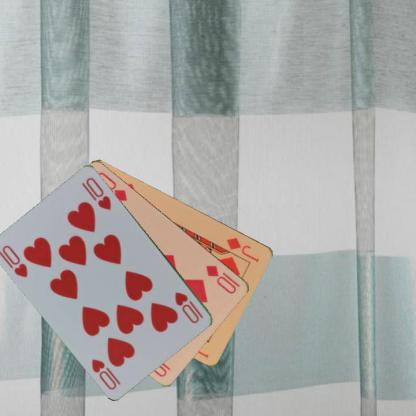10d: (204, 262, 242, 295)
10h: (171, 289, 205, 325), (0, 242, 30, 280)
Jd: (224, 234, 261, 264)
